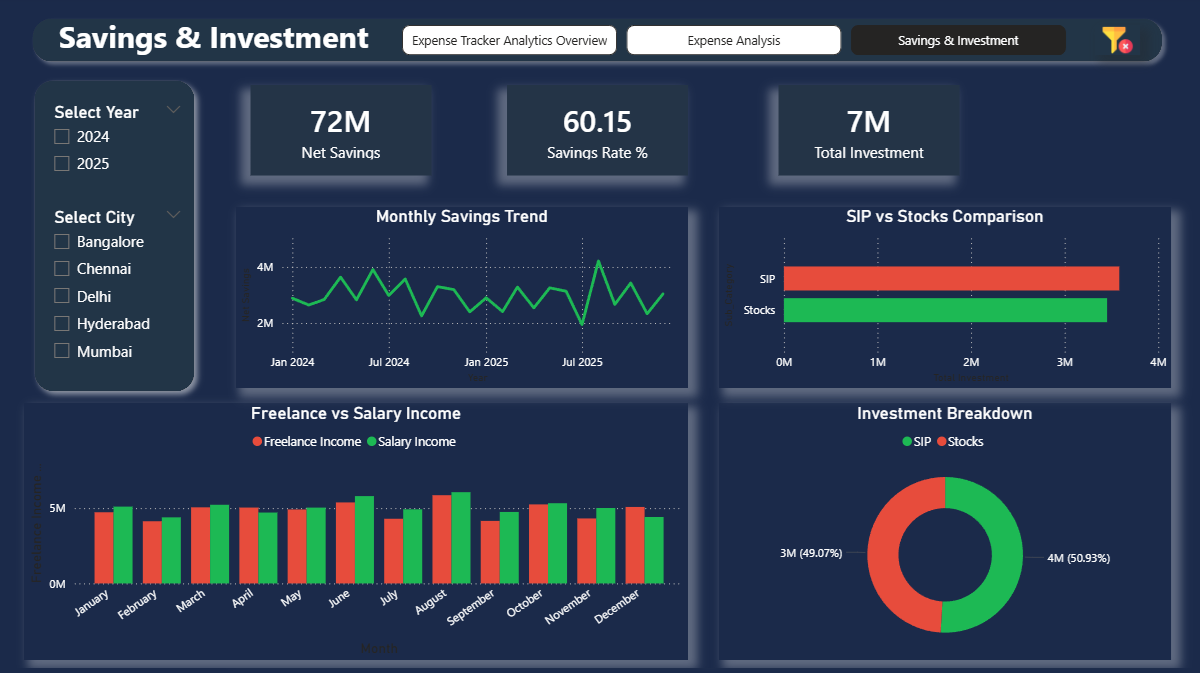

What the dashboard file says about the page in this screenshot:
{"tool":"powerbi","page":{"name":"Savings & Investment","canvas":[1280,720],"ordinal":2},"visuals":[{"type":"shape","box":[32,16,1216,64],"z":0},{"type":"textbox","box":[64,16,368,64],"z":1000},{"type":"shape","box":[32,80,192,352],"z":2000},{"type":"slicer","fields":{"Values":["Expense Tracker.City"]},"box":[50.7,220,160,192],"z":3000},{"type":"slicer","fields":{"Values":["Expense Tracker.Date.Variation.Date Hierarchy.Year"]},"box":[50.7,108,160,96],"z":4000},{"type":"cardVisual","title":"Total Income","fields":{"Data":["Expense Tracker.Net Savings"]},"box":[272,96,192,96],"z":5000},{"type":"cardVisual","title":"Total Income","fields":{"Data":["Expense Tracker.Savings Rate %"]},"box":[544,96,192,96],"z":6000},{"type":"cardVisual","title":"Total Income","fields":{"Data":["Expense Tracker.Total Investment"]},"box":[832,96,192,96],"z":7000},{"type":"lineChart","title":"Monthly Savings Trend","fields":{"Y":["Expense Tracker.Net Savings"],"Category":["Expense Tracker.Date.Variation.Date Hierarchy.Year","Expense Tracker.Date.Variation.Date Hierarchy.Quarter","Expense Tracker.Date.Variation.Date Hierarchy.Month"]},"box":[256,224,480,192],"z":8000},{"type":"donutChart","title":"Investment Breakdown","fields":{"Category":["Expense Tracker.Sub_Category"],"Y":["Expense Tracker.Total Investment"]},"box":[768,432,480,272],"z":9000},{"type":"clusteredColumnChart","title":"Freelance vs Salary Income","fields":{"Category":["Expense Tracker.Date.Variation.Date Hierarchy.Month"],"Y":["Expense Tracker.Freelance Income","Expense Tracker.Salary Income"]},"box":[32,432,704,272],"z":10000},{"type":"clusteredBarChart","title":"SIP vs Stocks Comparison","fields":{"Category":["Expense Tracker.Sub_Category"],"Y":["Expense Tracker.Total Investment"]},"box":[768,224,480,192],"z":11000},{"type":"image","box":[1168,32,48,32],"z":12000},{"type":"pageNavigator","box":[432,32,704,32],"z":13000}]}

Visuals, with their boxes in screenshot pixels (x1, y1, x2, y2), scaled from the page's 1280x720 canvas onto the 1200x673 screenshot:
shape: BBox(30, 15, 1170, 75)
textbox: BBox(60, 15, 405, 75)
shape: BBox(30, 75, 210, 404)
slicer - Expense Tracker.City: BBox(48, 206, 198, 385)
slicer - Expense Tracker.Date.Variation.Date Hierarchy.Year: BBox(48, 101, 198, 191)
"Total Income" cardVisual: BBox(255, 90, 435, 179)
"Total Income" cardVisual: BBox(510, 90, 690, 179)
"Total Income" cardVisual: BBox(780, 90, 960, 179)
"Monthly Savings Trend" lineChart: BBox(240, 209, 690, 389)
"Investment Breakdown" donutChart: BBox(720, 404, 1170, 658)
"Freelance vs Salary Income" clusteredColumnChart: BBox(30, 404, 690, 658)
"SIP vs Stocks Comparison" clusteredBarChart: BBox(720, 209, 1170, 389)
image: BBox(1095, 30, 1140, 60)
pageNavigator: BBox(405, 30, 1065, 60)
